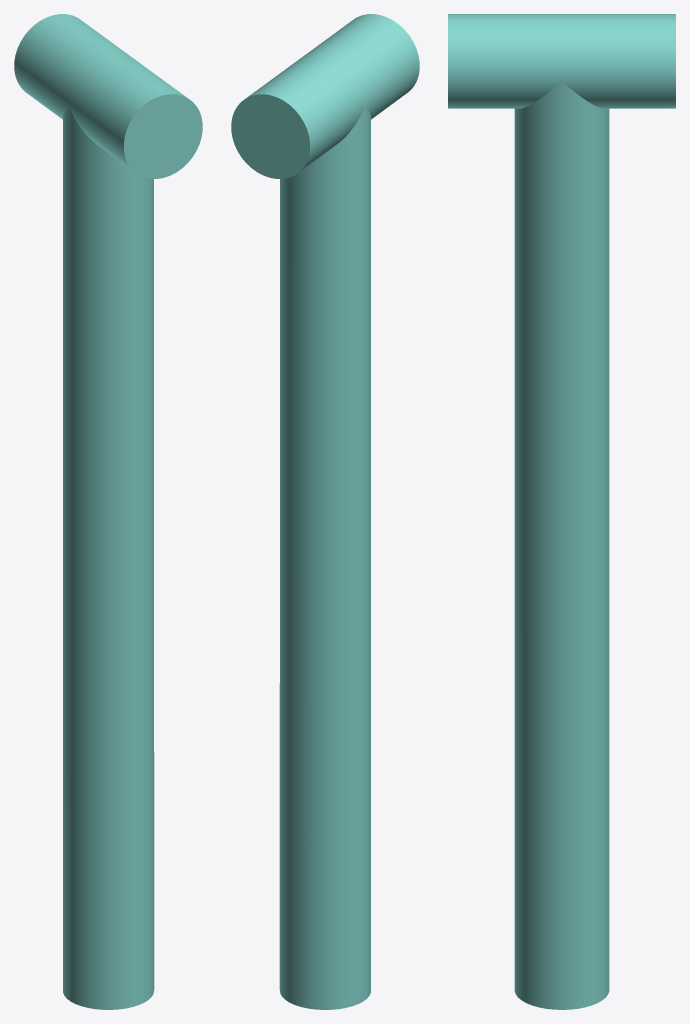
Rendered from lower_leg.dae.
The picture shows the model from 3 angles, left to right: view 1: azimuth 30°, elevation 25°; view 2: azimuth 150°, elevation 25°; view 3: azimuth 270°, elevation 25°; orthographic projection. The views are drawn at different scales.
Visible parts, largest first — view 1: ID2; view 2: ID2; view 3: ID2.
Boxes of the visible parts, <box> form: ID2: <box>14,14,202,1009</box>; ID2: <box>231,14,419,1009</box>; ID2: <box>448,14,675,1009</box>.
Bounding box in the file's own units: 0.025 × 0.06 × 0.2825.
